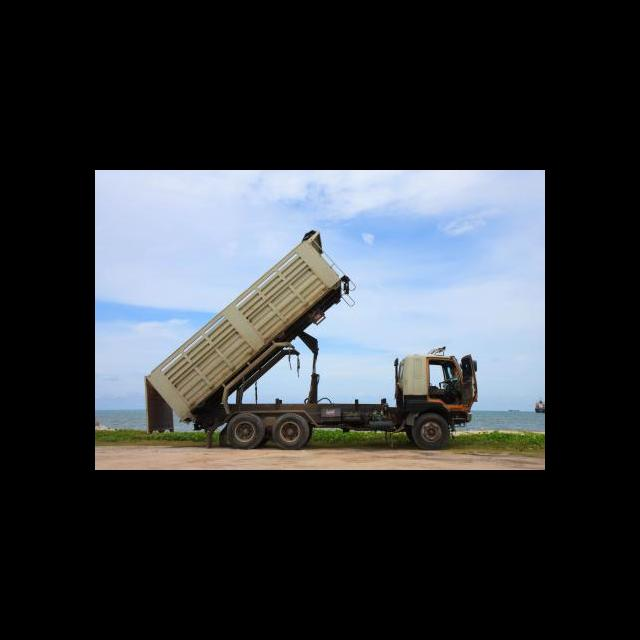dump truck: (144, 228, 479, 453)
